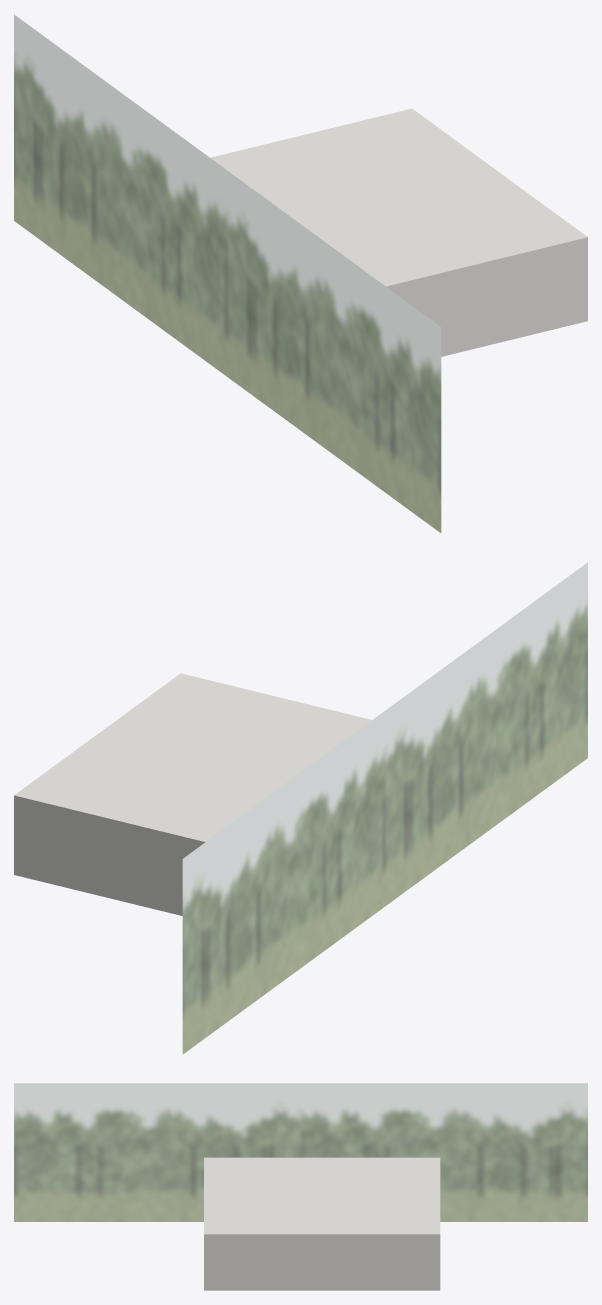
The model's file is T_root_elegant_B.glb.
The picture shows the model from 3 angles, top to bottom: view 1: azimuth 30°, elevation 25°; view 2: azimuth 150°, elevation 25°; view 3: azimuth 270°, elevation 25°; orthographic projection. The views are drawn at different scales.
Parts seen in each view (by area): view 1: T_daylight_glow, Hall; view 2: T_daylight_glow, Hall; view 3: T_daylight_glow, Hall.
Boxes of the visible parts, <box> form: T_daylight_glow: <box>14,14,441,533</box>; Hall: <box>210,108,587,356</box>; T_daylight_glow: <box>182,562,587,1054</box>; Hall: <box>14,673,371,915</box>; T_daylight_glow: <box>14,1083,587,1221</box>; Hall: <box>204,1157,440,1290</box>.
Size of the model in its own units: 23.35 by 16 by 60.
Materials: 9 (2 with a texture image).
